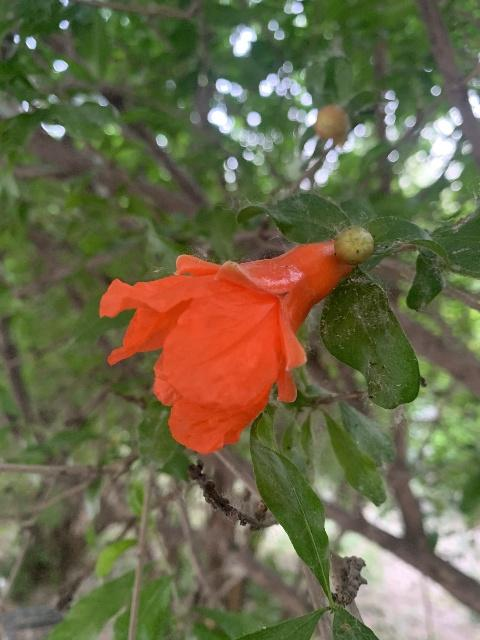bud: (333, 225, 374, 265), (315, 104, 348, 140)
flower: (100, 239, 350, 454)
